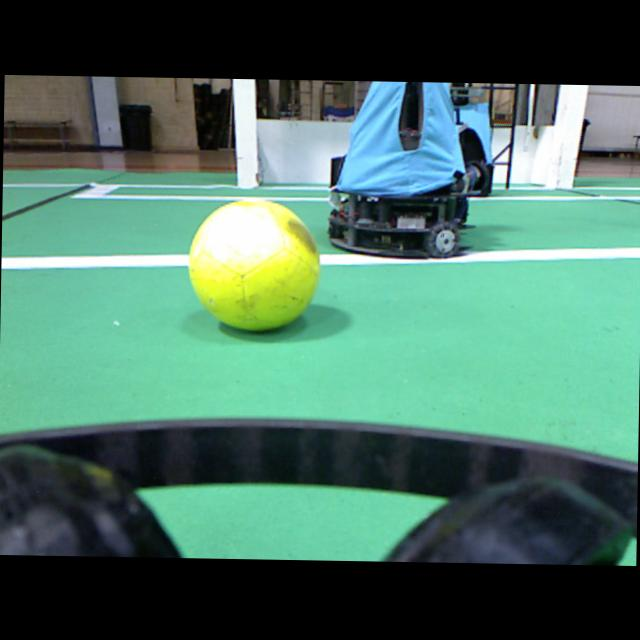ball: (189, 200, 318, 329)
goal: (552, 84, 587, 187), (232, 78, 257, 187)
